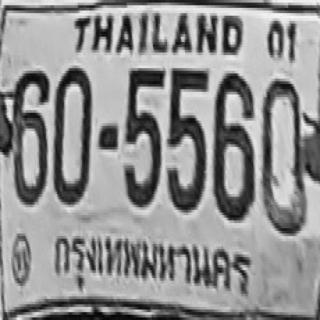N00: (261, 76, 306, 236), (54, 66, 91, 202)
N05: (166, 66, 208, 210), (123, 66, 165, 204)
N06: (213, 71, 255, 220), (11, 68, 49, 205)
P04: (50, 225, 256, 306)
